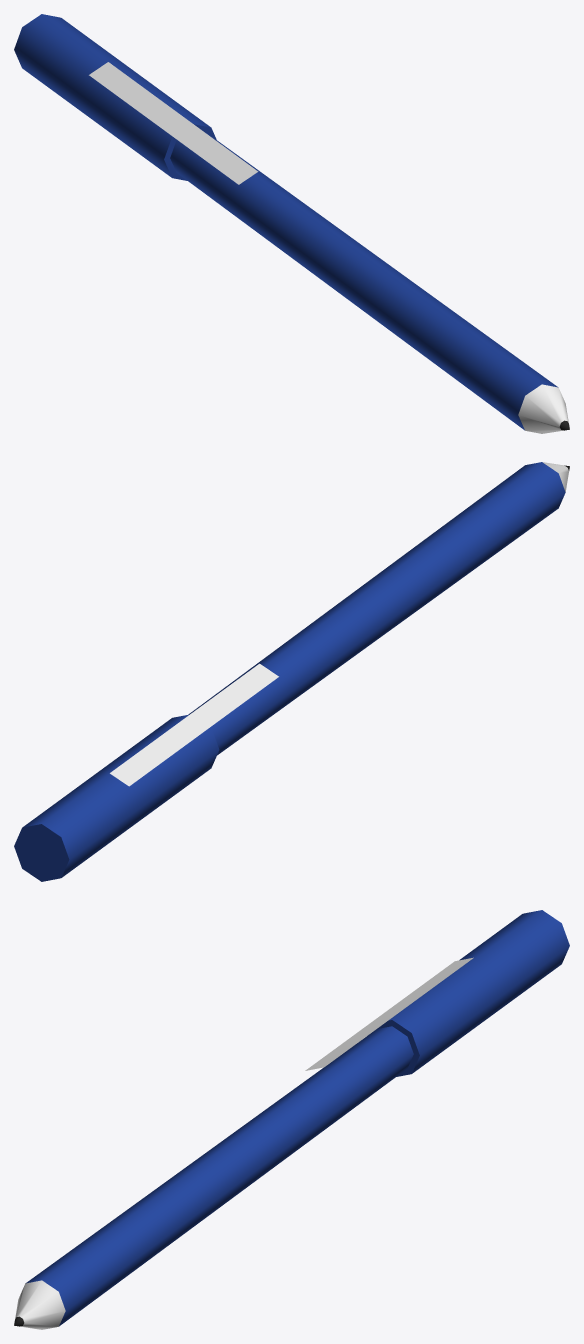
File: Asset_Pen.fbx
The picture shows the model from 3 angles, top to bottom: view 1: azimuth 30°, elevation 25°; view 2: azimuth 150°, elevation 25°; view 3: azimuth 330°, elevation 25°; orthographic projection.
Parts seen in each view (by area): view 1: Asset_Pen; view 2: Asset_Pen; view 3: Asset_Pen.
Part boxes in pixels (x1,y1,x2,y2): Asset_Pen: (14,14,569,433); Asset_Pen: (14,462,569,881); Asset_Pen: (14,910,569,1329).
Bounding box in the file's own units: 2.56 × 2.63 × 42.24.
